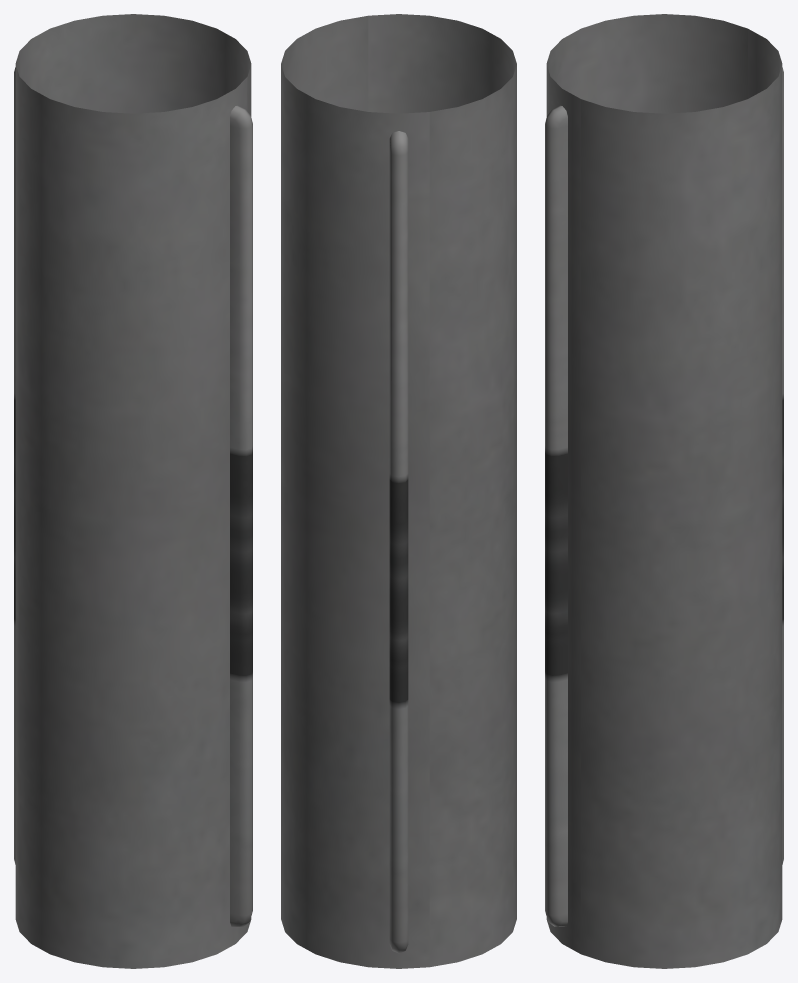
Rendered from black_knight_fuel_tank_s0_3.obj.
3 renders of one model, left to right at view 1: azimuth 30°, elevation 25°; view 2: azimuth 150°, elevation 25°; view 3: azimuth 270°, elevation 25°, orthographic.
Parts seen in each view (by area): view 1: mesh1; view 2: mesh1; view 3: mesh1.
Boxes of the visible parts, bbox=[...] form: mesh1: bbox=[14, 14, 252, 968]; mesh1: bbox=[281, 14, 516, 968]; mesh1: bbox=[545, 14, 783, 968].
Bounding box in the file's own units: 0.625 × 2.5 × 0.6329.
